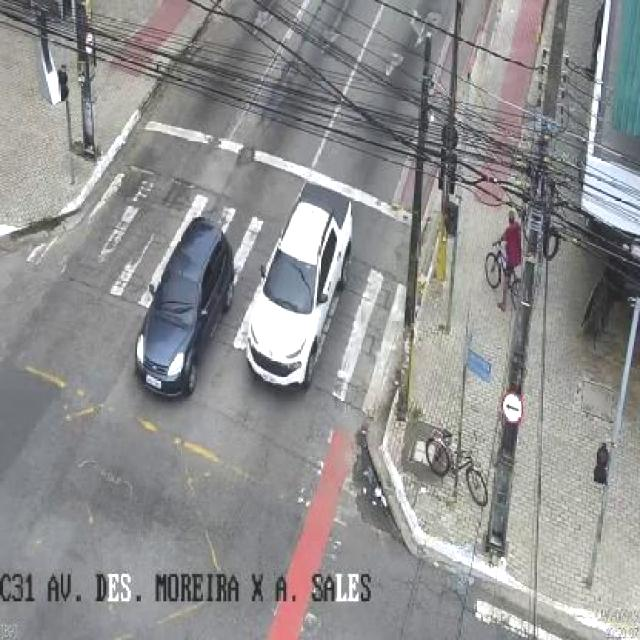Car: (132, 216, 235, 400)
Cycle: (424, 428, 489, 507)
Truck: (245, 179, 354, 389)
